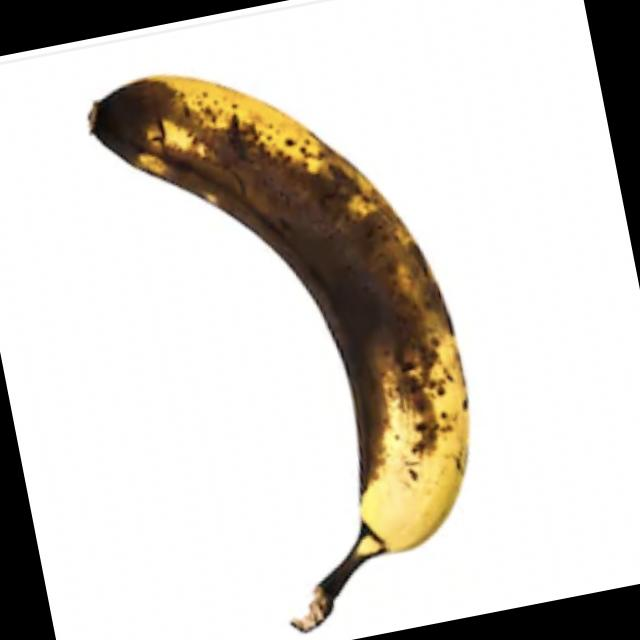rotten-banana: (82, 25, 495, 620)
